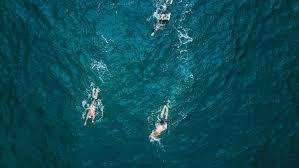swimmer: (149, 103, 171, 141), (82, 85, 100, 128), (153, 6, 172, 35)
